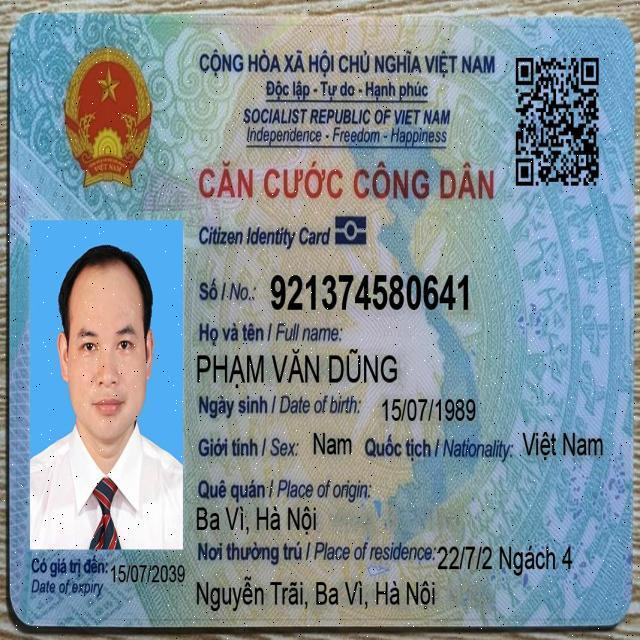current_place: (194, 572, 439, 617), (433, 540, 576, 580)
dob: (379, 392, 478, 428)
expire_date: (107, 559, 188, 589)
gender: (311, 427, 355, 461)
id: (266, 267, 474, 317)
name: (194, 345, 401, 393)
nationality: (520, 426, 607, 465)
origin_place: (195, 501, 320, 538)
